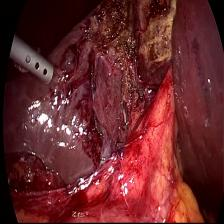Irrigator: (15, 40, 56, 97)
